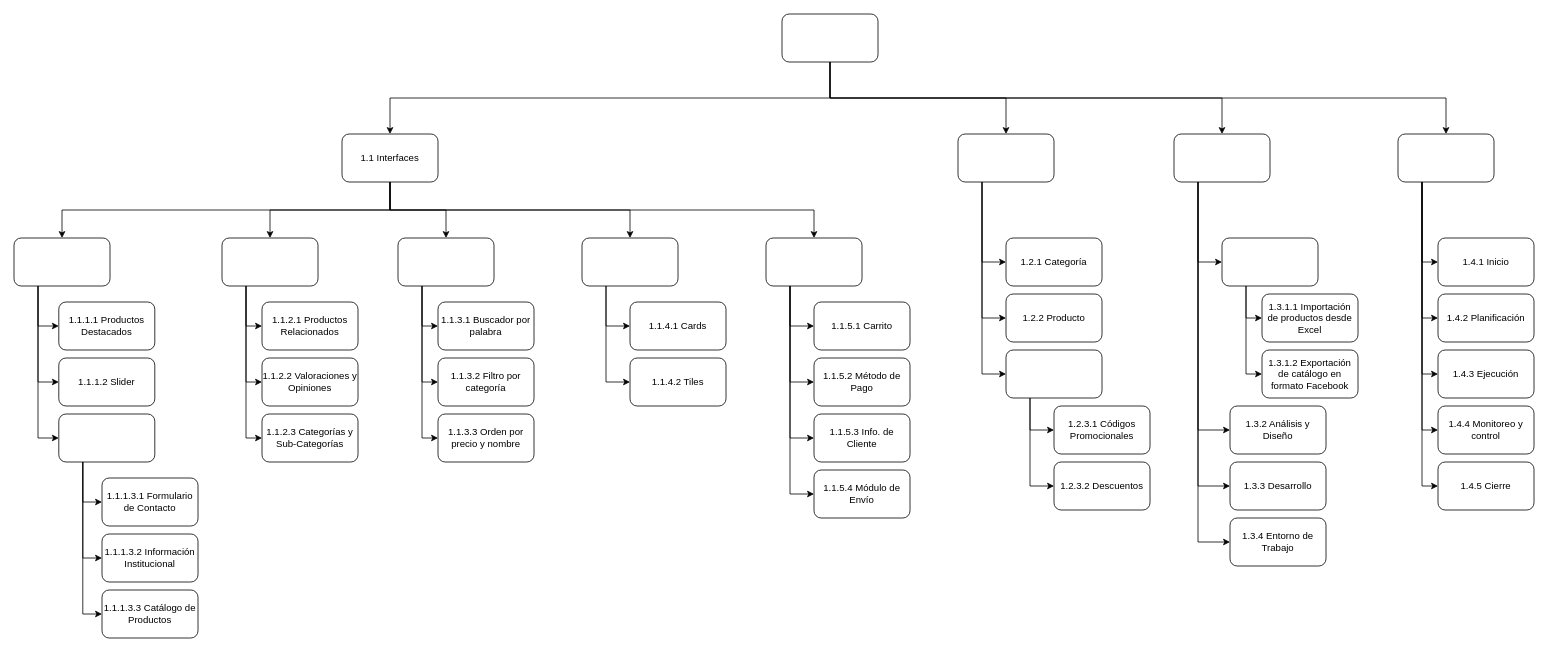
The diagram is 1548 pixels wide and 652 high, and some of its shapes have lost their labels. The shapes that lost their labels are listed below. From the top down, each one's centre as x and y in pixels, then its label:
pixel 829 37: 1 El Deporte Online
pixel 1005 157: 1.2 ABMs
pixel 1221 157: 1.3 Base de datos
pixel 1445 157: 1.4 Administración del proyecto
pixel 61 261: 1.1.1 Home
pixel 269 261: 1.1.2 Producto
pixel 445 261: 1.1.3 Gestor de Búsqueda
pixel 629 261: 1.1.4 Visualización de Productos
pixel 813 261: 1.1.5 CheckOut
pixel 1269 261: 1.3.1 Gestión de Catálogo y Productos
pixel 1053 373: 1.2.3 Ofertas
pixel 106 437: 1.1.1.3 Menú
